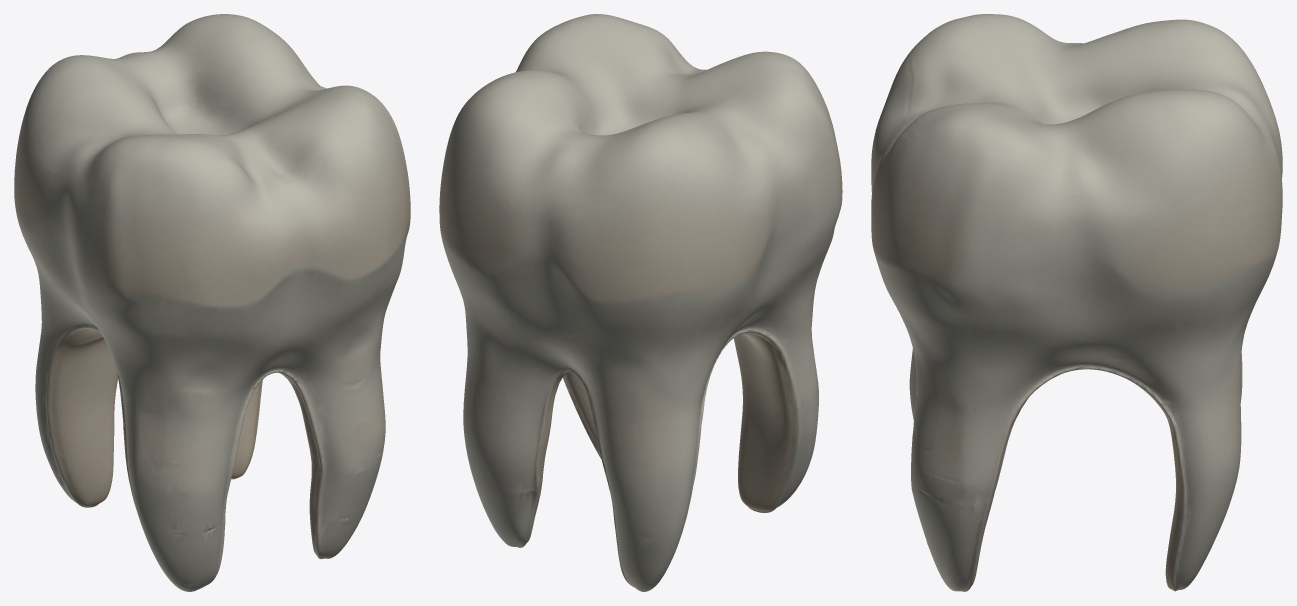
The model's file is diente.glb.
3 renders of one model, left to right at view 1: azimuth 30°, elevation 25°; view 2: azimuth 150°, elevation 25°; view 3: azimuth 270°, elevation 25°, orthographic. The views are drawn at different scales.
Parts seen in each view (by area): view 1: tripo_node_e0f3de86-3225-44f4-aa9f-55321790478b; view 2: tripo_node_e0f3de86-3225-44f4-aa9f-55321790478b; view 3: tripo_node_e0f3de86-3225-44f4-aa9f-55321790478b.
Part boxes in pixels (x1=…): tripo_node_e0f3de86-3225-44f4-aa9f-55321790478b: x1=14, y1=14, x2=410, y2=591; tripo_node_e0f3de86-3225-44f4-aa9f-55321790478b: x1=439, y1=14, x2=842, y2=591; tripo_node_e0f3de86-3225-44f4-aa9f-55321790478b: x1=871, y1=14, x2=1282, y2=591.
Size of the model in its own units: 0.6784 by 0.9804 by 0.7307.
Materials: 1 (1 with a texture image).
